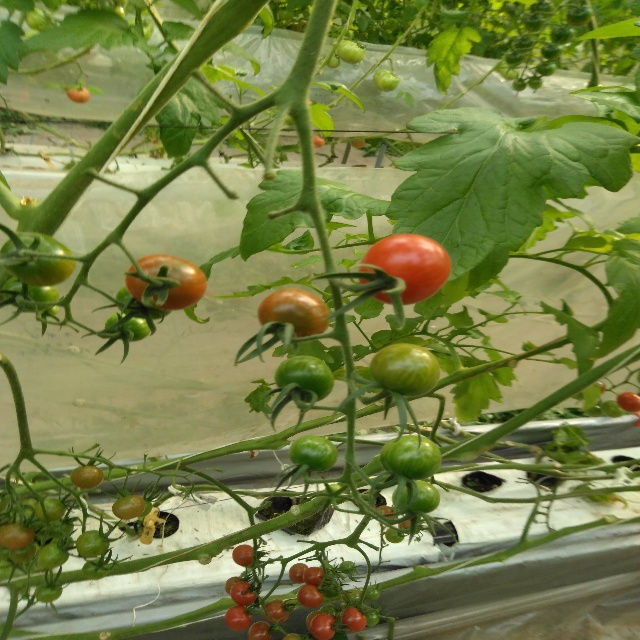l_fully_ripened: (357, 234, 451, 307), (334, 607, 367, 632), (225, 606, 252, 631), (310, 614, 337, 639), (231, 582, 256, 606), (303, 567, 328, 589), (232, 544, 256, 566), (385, 527, 404, 544)
l_green: (0, 231, 76, 286), (370, 344, 441, 398), (379, 434, 441, 480), (275, 356, 334, 403), (2, 277, 60, 313), (115, 285, 173, 320), (288, 435, 337, 473), (392, 479, 439, 514), (105, 311, 153, 341), (75, 530, 110, 557), (36, 545, 69, 569), (34, 498, 66, 521), (34, 581, 63, 603), (82, 559, 110, 579), (319, 581, 342, 598), (135, 498, 153, 518), (364, 610, 380, 626), (364, 585, 381, 600), (339, 560, 356, 573)
l_half_ripened: (125, 254, 208, 311), (257, 289, 331, 344), (1, 522, 35, 550), (112, 495, 146, 520), (70, 465, 103, 489), (263, 599, 290, 623), (297, 584, 323, 608), (248, 621, 272, 640), (225, 576, 246, 596), (289, 563, 308, 583)
